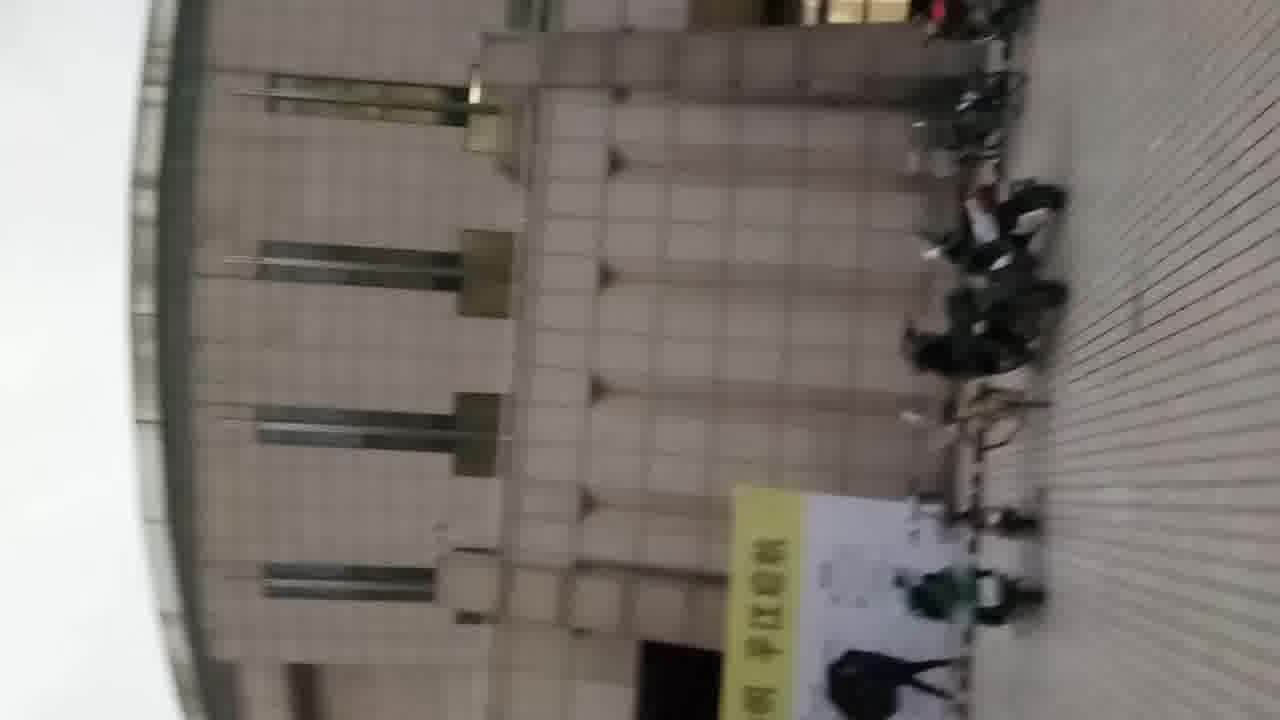zhongtiww: (116, 10, 970, 702)
